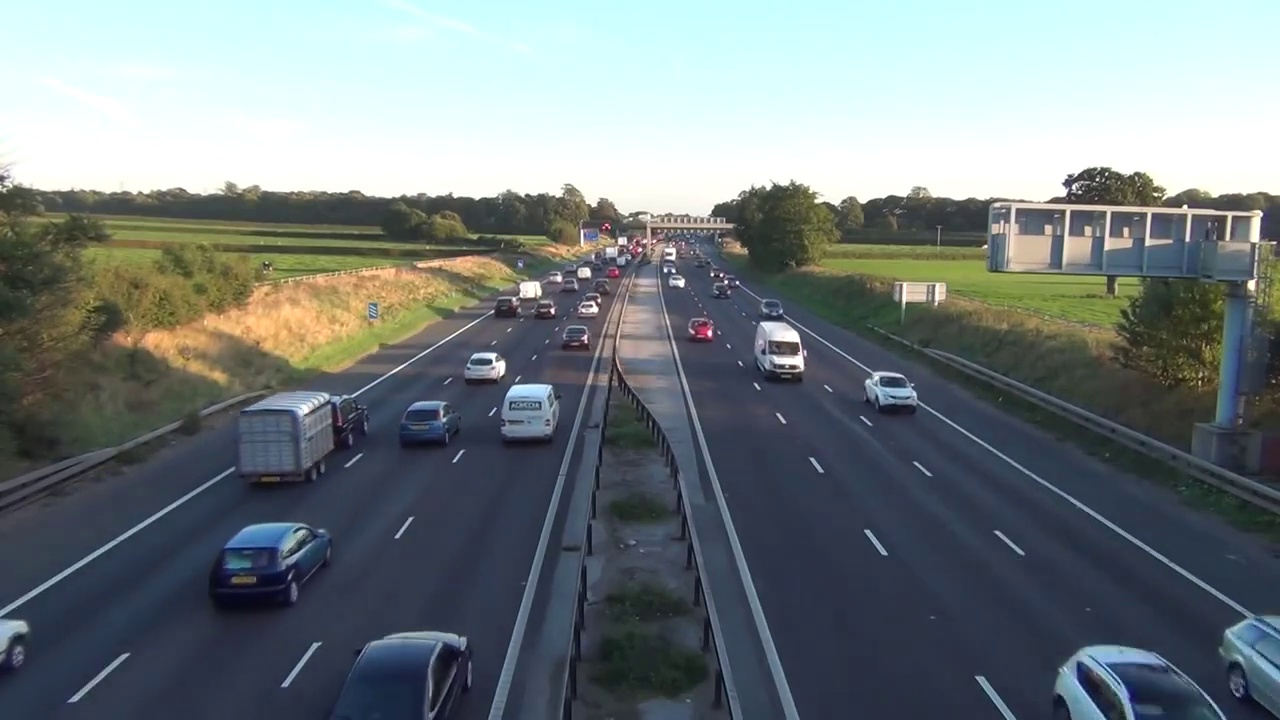bus: (1051, 641, 1227, 720), (325, 630, 474, 720), (207, 520, 332, 609), (500, 383, 563, 443), (753, 322, 807, 380), (397, 400, 461, 448), (861, 371, 917, 412), (330, 395, 369, 447), (463, 352, 506, 383), (560, 326, 591, 353), (493, 296, 521, 317), (688, 318, 712, 341), (758, 296, 784, 317), (533, 301, 556, 319), (576, 300, 599, 318), (712, 283, 731, 299), (722, 275, 740, 288), (668, 275, 684, 288), (663, 264, 676, 274)
